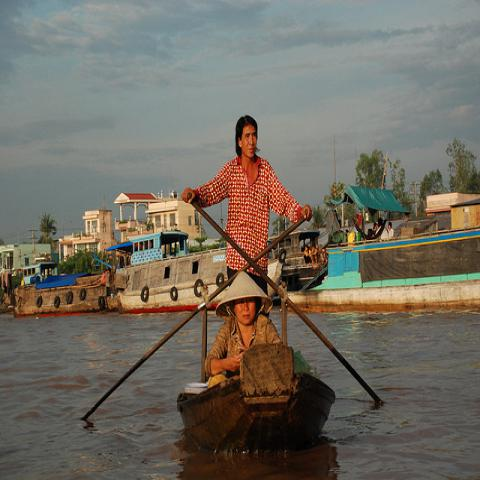bus: (105, 231, 190, 270)
